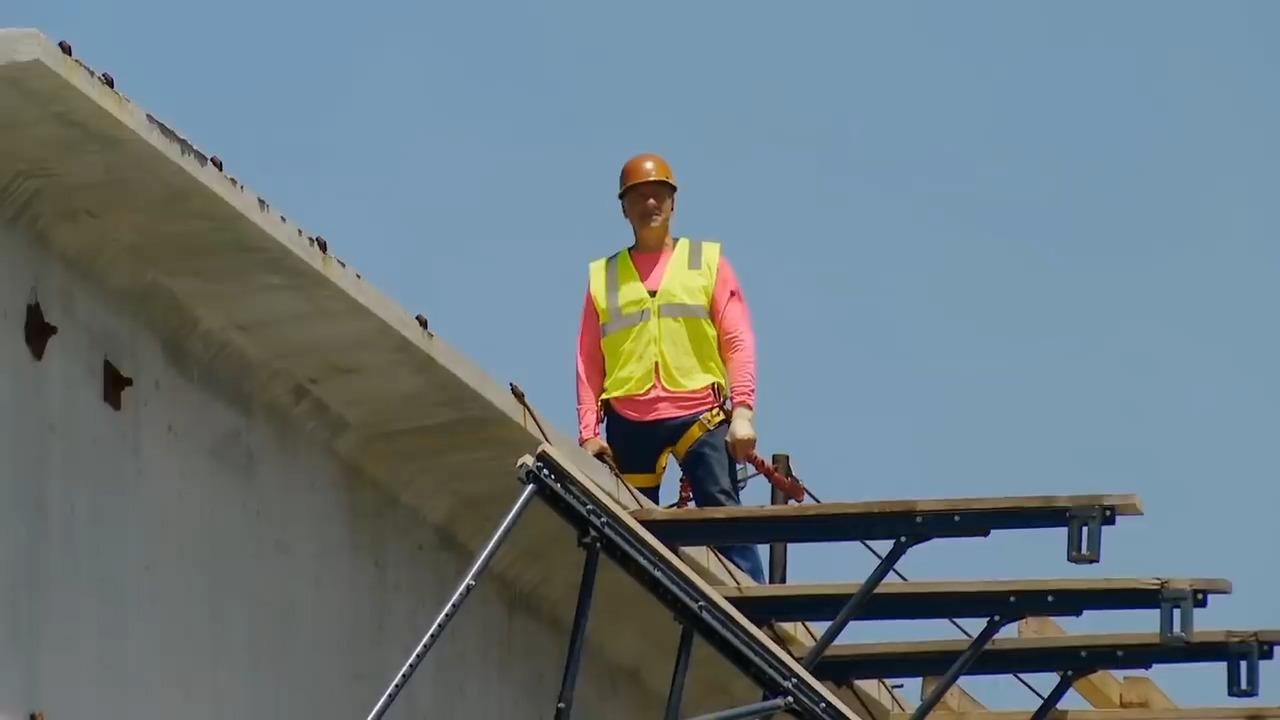Helmet: (617, 152, 677, 199)
Person: (569, 150, 758, 584)
Safety Vest: (596, 264, 719, 385)
bare-arms: (729, 402, 757, 454), (576, 434, 617, 459)
